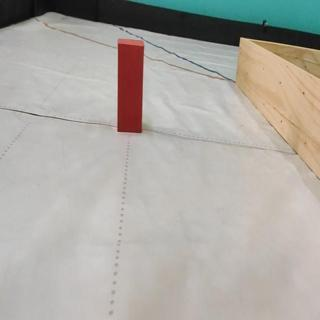redbox: (115, 37, 145, 133)
